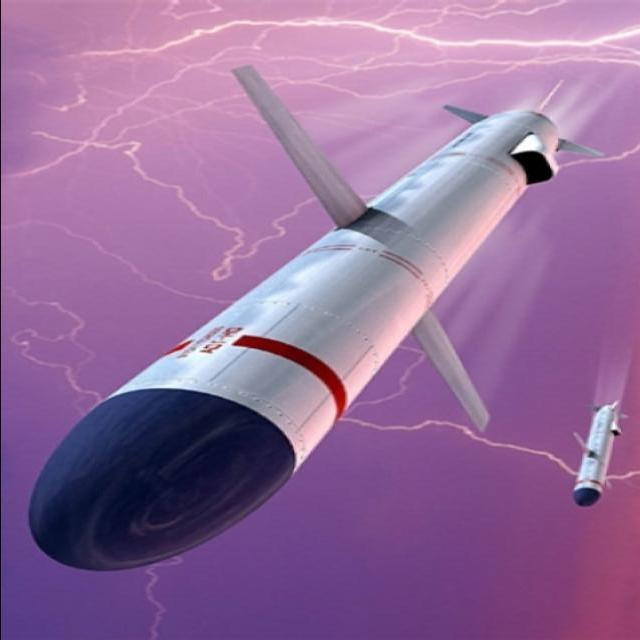missile: (27, 61, 594, 574)
